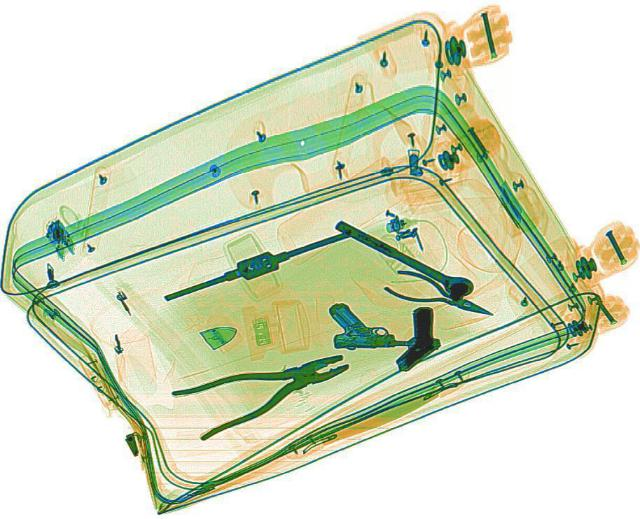Gun: (362, 300, 462, 373), (327, 302, 437, 347)
Pliers: (167, 333, 363, 440), (380, 264, 502, 326)
